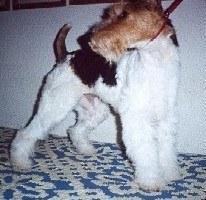wire-haired_fox_terrier: (7, 0, 188, 190)
